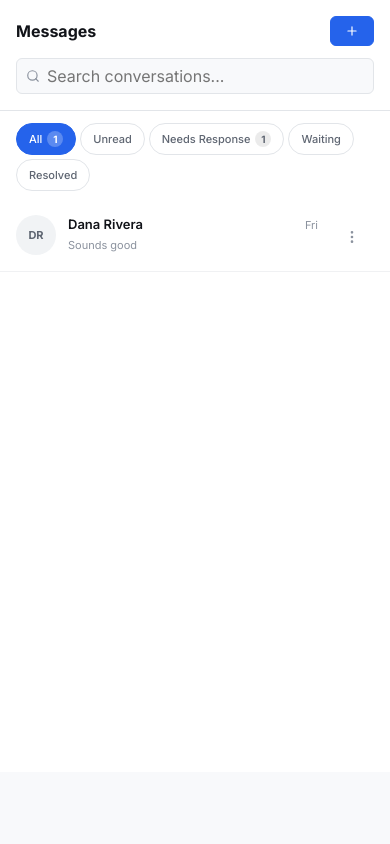
Test: Conversations — resume after the access lease expires › still destroys the draft and the route when the refresh proves access is gone
The width and height of the screenshot is (390, 844).
Click the button with class "conv-item" at x=36, y=235, box [0,203,389,272]
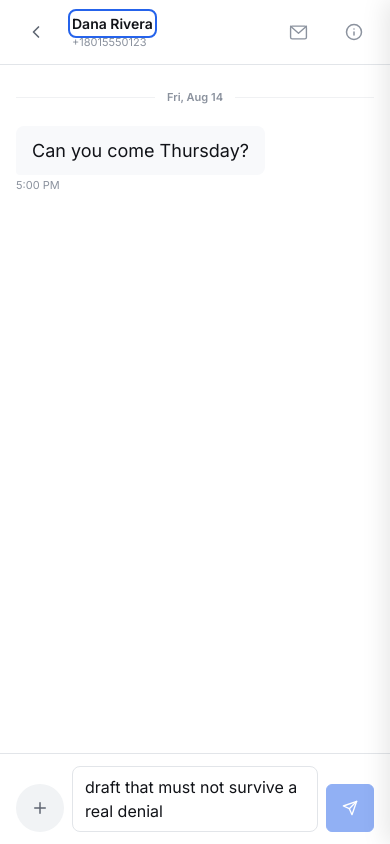
Check: the field with class "conv-compose-input" is shown
Clear the field with class "conv-compose-input" at x=195, y=799, box [72,766,318,832]
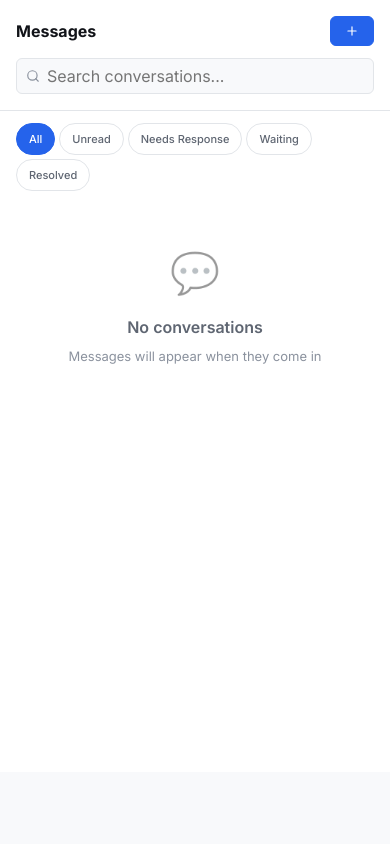
Check: the text "Can you come Thursday?" is gone
